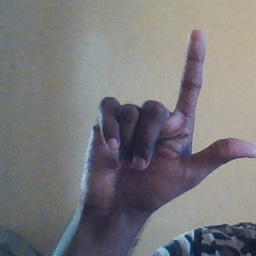L: (82, 30, 256, 209)
